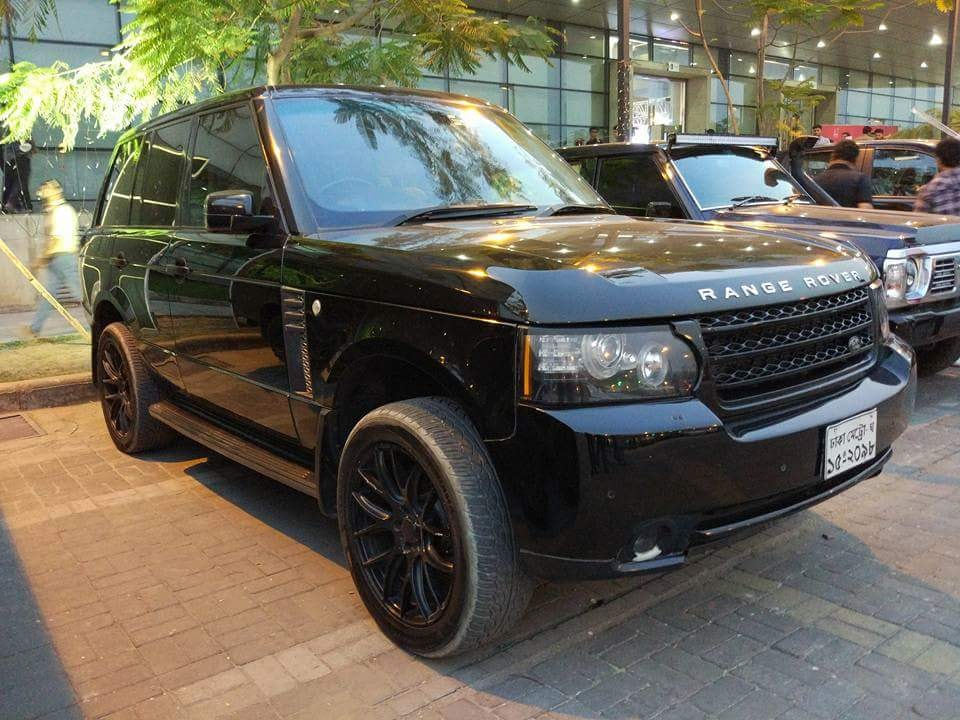registration_plate: (824, 407, 878, 480)
